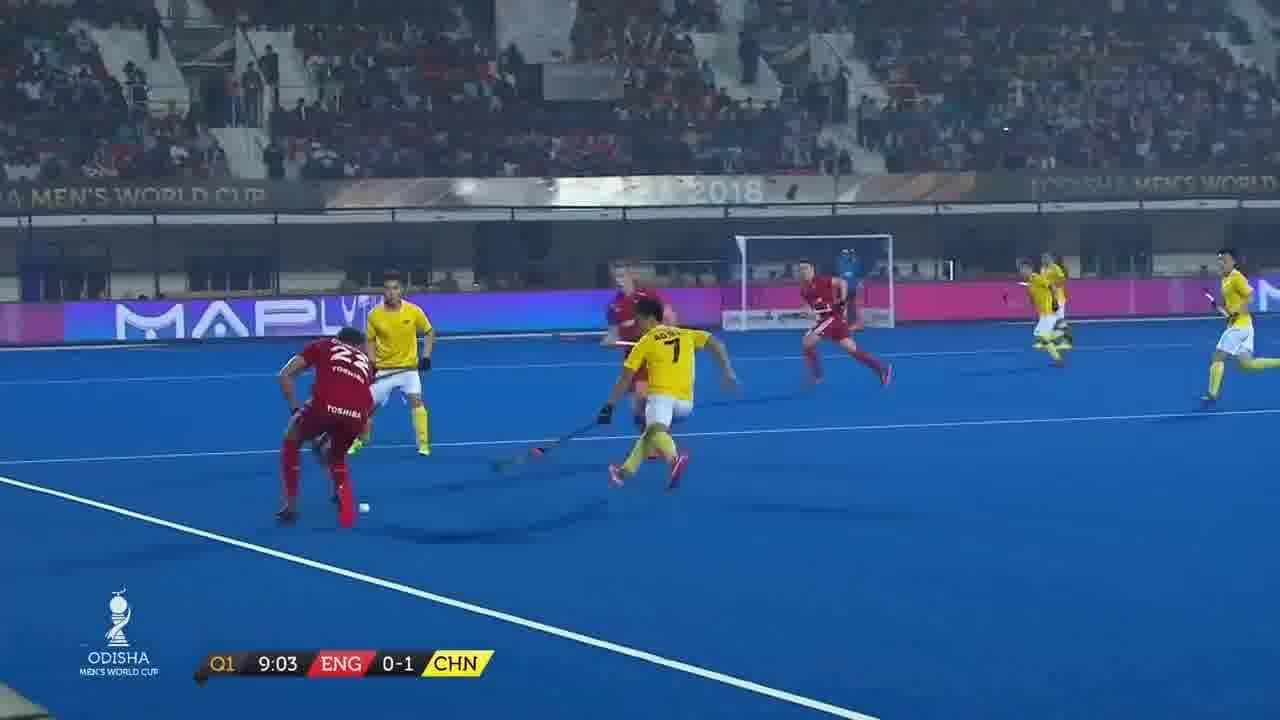ball: (356, 494, 374, 522)
